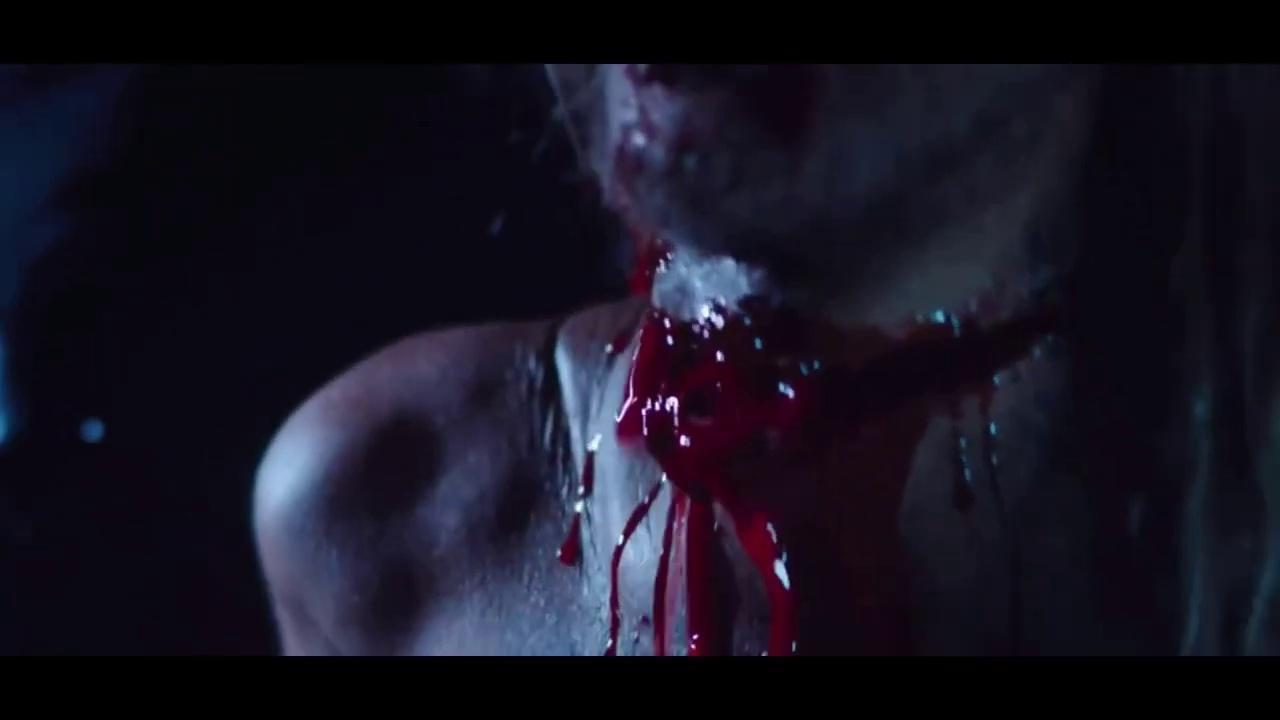Fire: (610, 295, 830, 656), (822, 293, 1035, 497), (802, 462, 905, 642), (610, 119, 657, 188), (631, 240, 671, 300), (953, 433, 974, 511), (559, 513, 583, 567), (604, 331, 632, 356), (581, 453, 593, 499)
